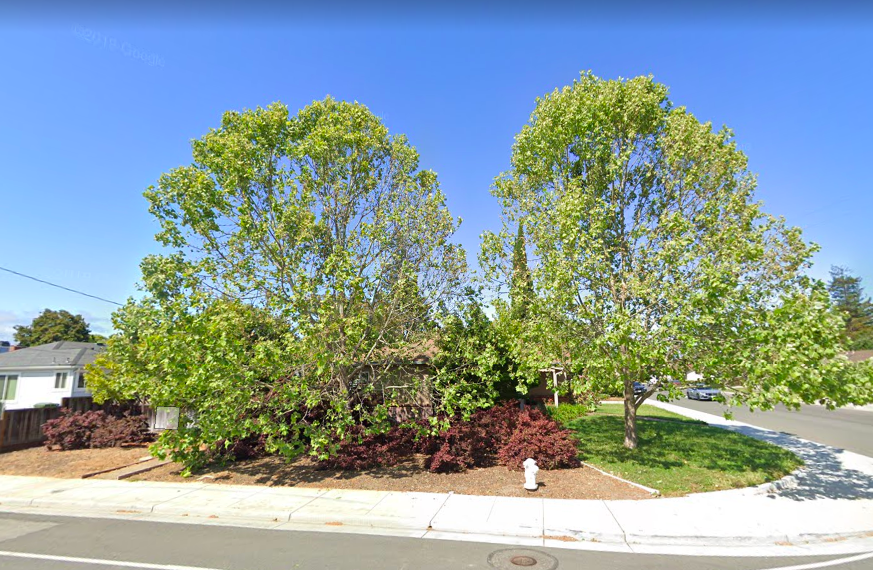tree: (476, 70, 873, 451), (79, 92, 475, 473)
